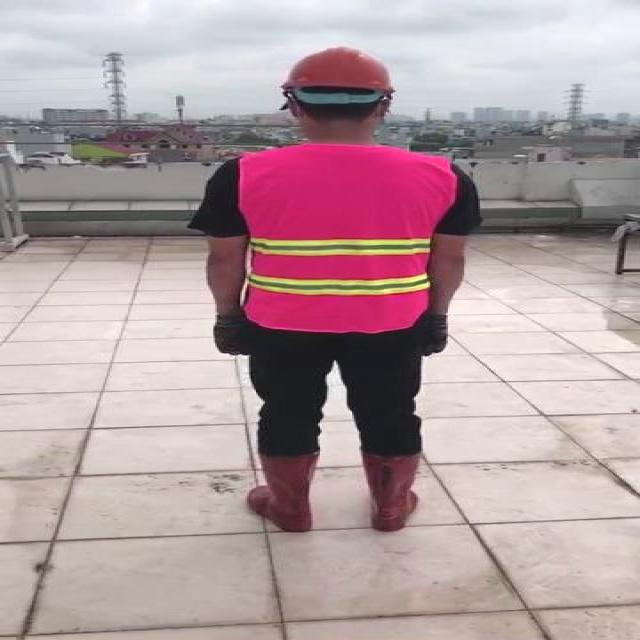boots: (247, 453, 322, 534), (358, 449, 422, 532)
hand_glove: (210, 310, 250, 356), (418, 311, 450, 358)
head_helmet: (279, 42, 393, 94)
person: (180, 40, 474, 537)
vest: (238, 146, 452, 333)
